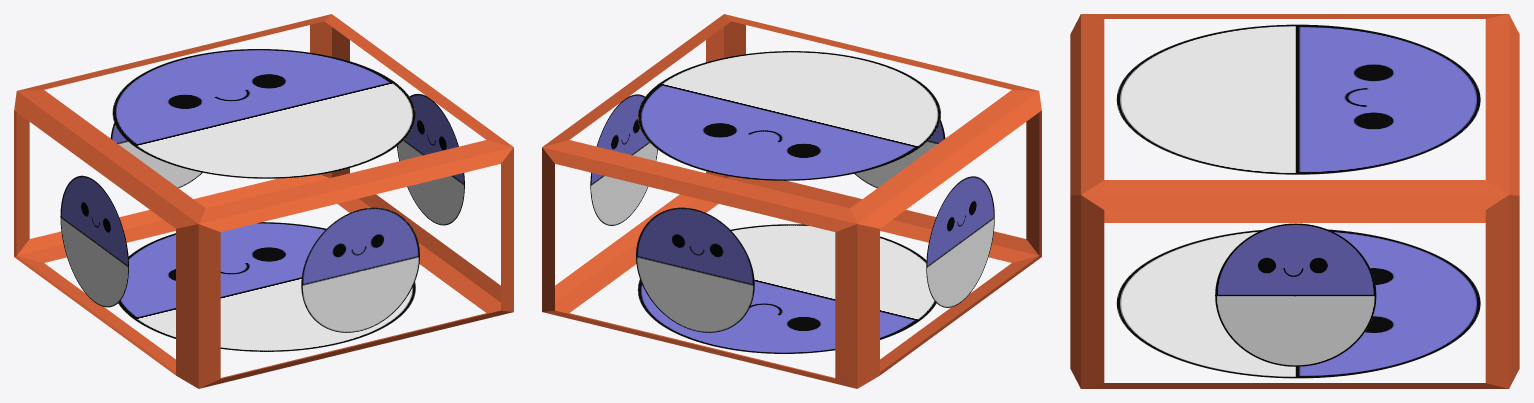
Rendered from Fracciones un medio.fbx.
3 views of the same model, side by side, from view 1: azimuth 30°, elevation 25°; view 2: azimuth 150°, elevation 25°; view 3: azimuth 270°, elevation 25° (orthographic). The views are drawn at different scales.
Parts seen in each view (by area): view 1: 1/2; view 2: 1/2; view 3: 1/2.
Part boxes in pixels (x1,y1,x2,y2): 1/2: [14, 14, 513, 388]; 1/2: [542, 14, 1041, 388]; 1/2: [1070, 14, 1519, 388].
Size of the model in its own units: 213 by 105 by 210.
Materials: 2 (1 with a texture image).
